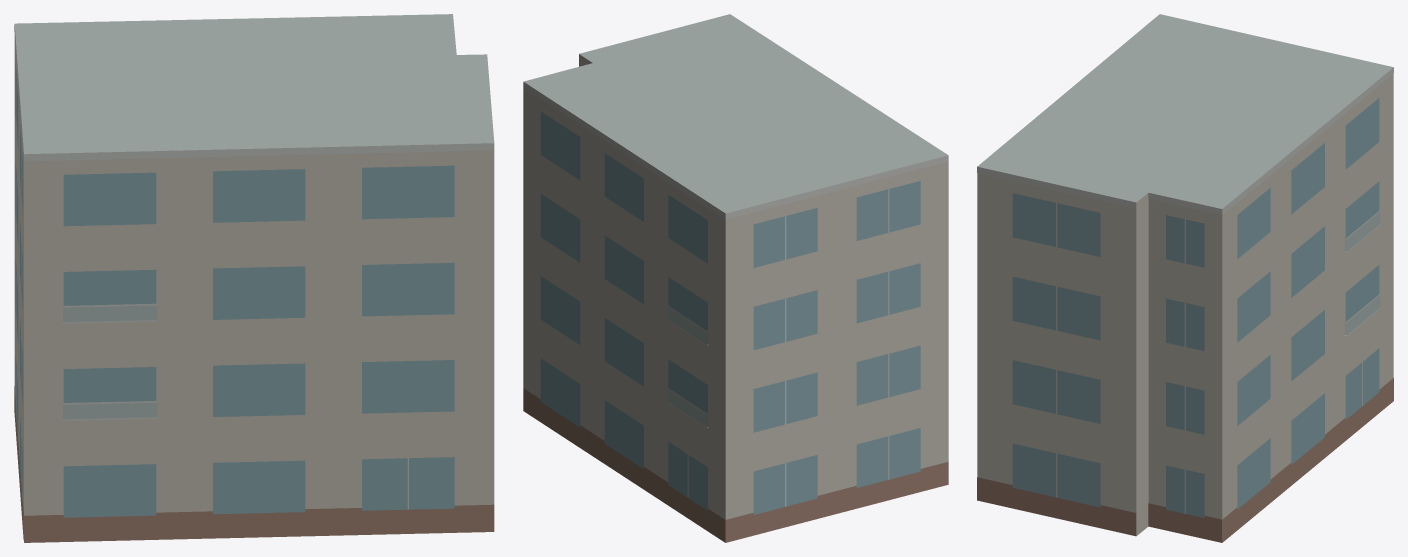
The model's file is survey-upis-32656169.glb.
The picture shows the model from 3 angles, left to right: view 1: azimuth 30°, elevation 25°; view 2: azimuth 150°, elevation 25°; view 3: azimuth 270°, elevation 25°; orthographic projection. The views are drawn at different scales.
Visible parts, largest first — view 1: survey-upis-32656169.tmp; view 2: survey-upis-32656169.tmp; view 3: survey-upis-32656169.tmp.
Boxes of the visible parts, x1,y1,x2,y2 form: survey-upis-32656169.tmp: [14, 14, 494, 542]; survey-upis-32656169.tmp: [523, 14, 948, 542]; survey-upis-32656169.tmp: [977, 14, 1393, 542].
Bounding box in the file's own units: 16.36 × 13.05 × 14.77.
